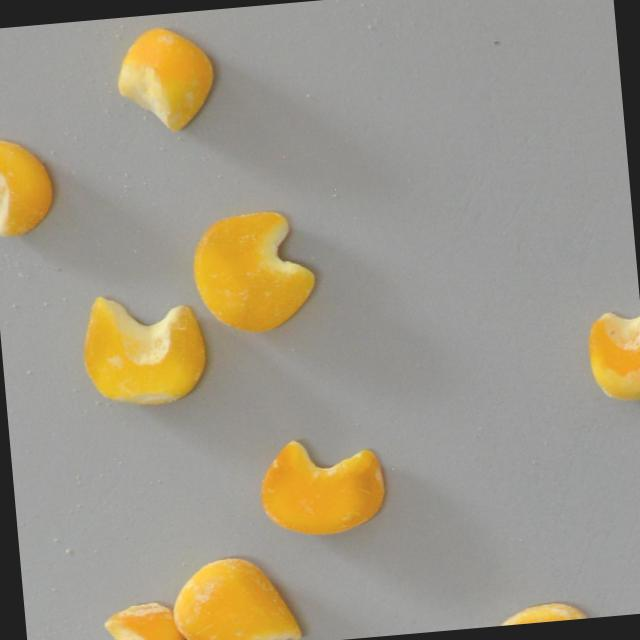no_canjicado: (188, 205, 320, 338), (74, 287, 211, 412), (253, 432, 389, 542), (110, 21, 220, 136), (0, 134, 58, 238), (584, 306, 640, 403)
pelicula: (167, 551, 303, 640), (95, 598, 184, 640), (487, 598, 595, 626)
